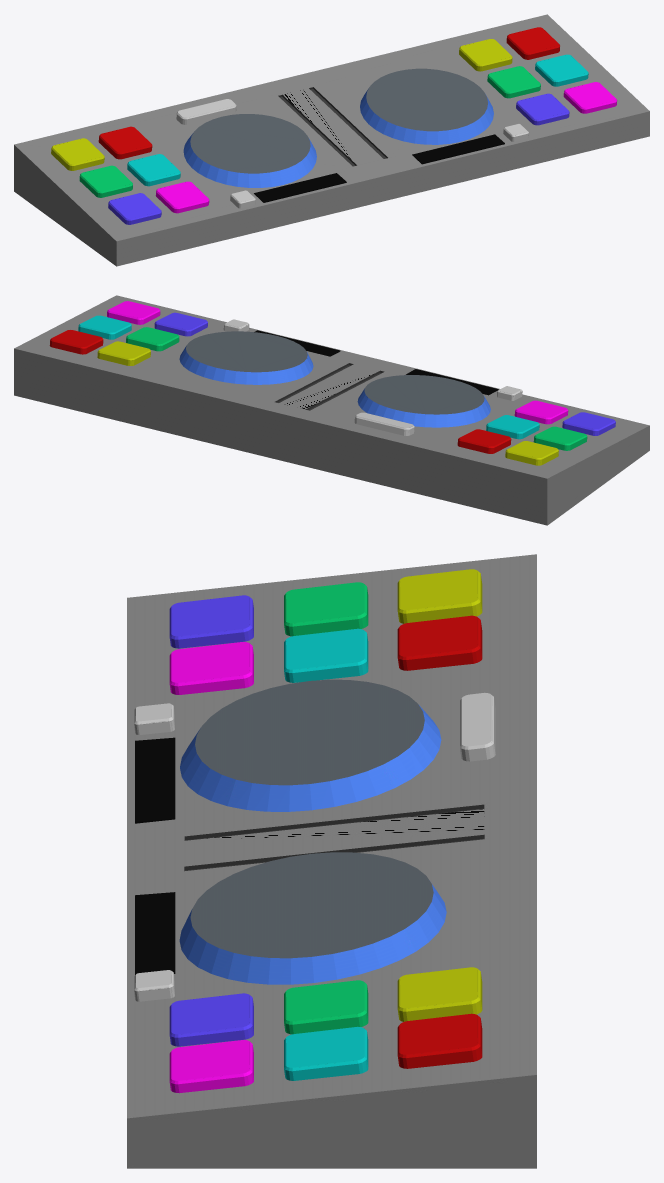
The model's file is platine.gltf.
3 renders of one model, top to bottom at view 1: azimuth 30°, elevation 25°; view 2: azimuth 150°, elevation 25°; view 3: azimuth 270°, elevation 25°, orthographic. The views are drawn at different scales.
Parts seen in each view (by area): view 1: Cube.35, Cylinder.2, Cylinder.3, Cube.23, Cube.24, Cube.34, Cube.33, Cube.31, Cube.26, Cube.32, Cube.25, Cube.28 (+6 smaller); view 2: Cube.35, Cylinder.2, Cylinder.3, Cube.34, Cube.23, Cube.33, Cube.24, Cube.26, Cube.31, Cube.25, Cube.32, Cube.30 (+6 smaller); view 3: Cube.35, Cylinder.2, Cylinder.3, Cube.34, Cube.23, Cube.26, Cube.31, Cube.24, Cube.33, Cube.32, Cube.25, Cube.29 (+8 smaller).
Boxes of the visible parts, <box> form: Cube.35: <box>14,14,649,266</box>; Cylinder.2: <box>360,68,493,144</box>; Cylinder.3: <box>183,114,316,187</box>; Cube.23: <box>506,27,559,59</box>; Cube.24: <box>459,39,512,71</box>; Cube.34: <box>98,126,152,159</box>; Cube.33: <box>51,138,104,170</box>; Cube.31: <box>127,154,180,186</box>; Cube.26: <box>535,54,588,86</box>; Cube.32: <box>79,165,132,197</box>; Cube.25: <box>487,66,540,98</box>; Cube.28: <box>516,93,569,125</box>; Cube.35: <box>14,295,649,525</box>; Cylinder.2: <box>179,331,313,384</box>; Cylinder.3: <box>357,375,490,427</box>; Cube.34: <box>457,429,511,453</box>; Cube.23: <box>49,330,103,354</box>; Cube.33: <box>505,441,558,465</box>; Cube.24: <box>97,341,150,365</box>; Cube.26: <box>78,315,131,339</box>; Cube.31: <box>486,415,539,439</box>; Cube.25: <box>126,327,179,351</box>; Cube.32: <box>533,426,587,450</box>; Cube.30: <box>514,400,568,424</box>; Cube.35: <box>127,554,536,1168</box>; Cylinder.2: <box>179,852,446,984</box>; Cylinder.3: <box>180,679,441,811</box>; Cube.34: <box>397,615,482,670</box>; Cube.23: <box>397,1013,482,1068</box>; Cube.26: <box>284,1026,368,1080</box>; Cube.31: <box>284,628,368,682</box>; Cube.24: <box>397,967,482,1021</box>; Cube.33: <box>397,569,482,623</box>; Cube.32: <box>284,582,368,636</box>; Cube.25: <box>284,980,368,1034</box>; Cube.29: <box>169,595,253,648</box>.
Size of the model in its own units: 601 by 55.85 by 200.
Materials: 20 (20 with a texture image).
